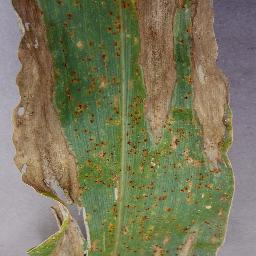Corn_Blight: (129, 0, 241, 168), (8, 0, 78, 256), (122, 169, 235, 256), (79, 52, 121, 256), (80, 0, 127, 50)
